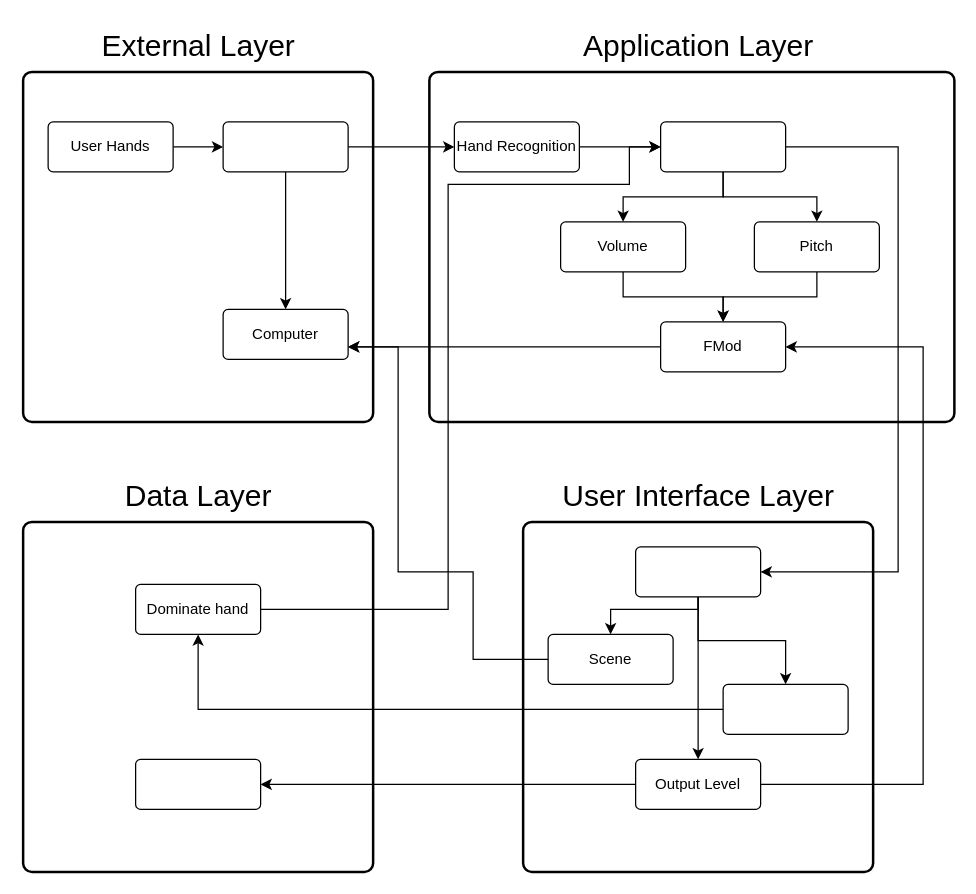
Some shapes in this 976 by 894 pixel diagram are drawn without their labels. The box of each missing label's shape, as (x1, y1, x2, y2) in pixels:
Camera: (222, 121, 348, 172)
Furthest Completed Level: (134, 758, 261, 809)
Hand Positioning: (659, 121, 786, 172)
Preferred Hand: (722, 683, 848, 734)
UI Interaction Management: (634, 546, 761, 597)
